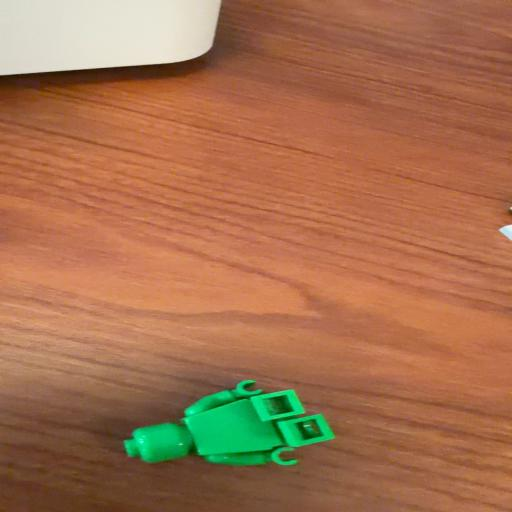UnoQ-minifig-detector: (124, 379, 335, 466)
